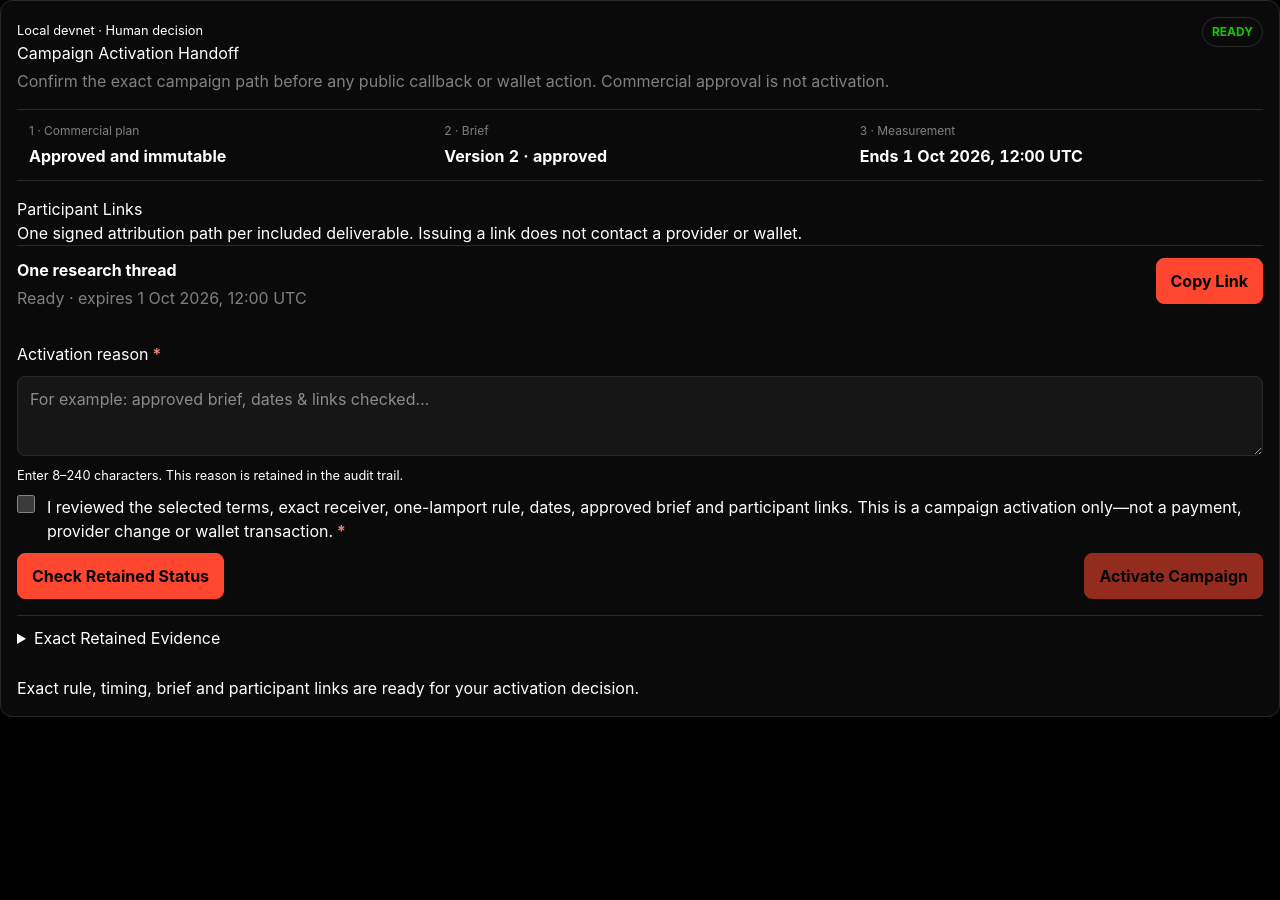
it: copies a freshly verified signed link without activating the campaign
Click the button with aria-label "Copy signed link for" at (1209, 281), box x1=1156 y1=258 x2=1263 y2=304
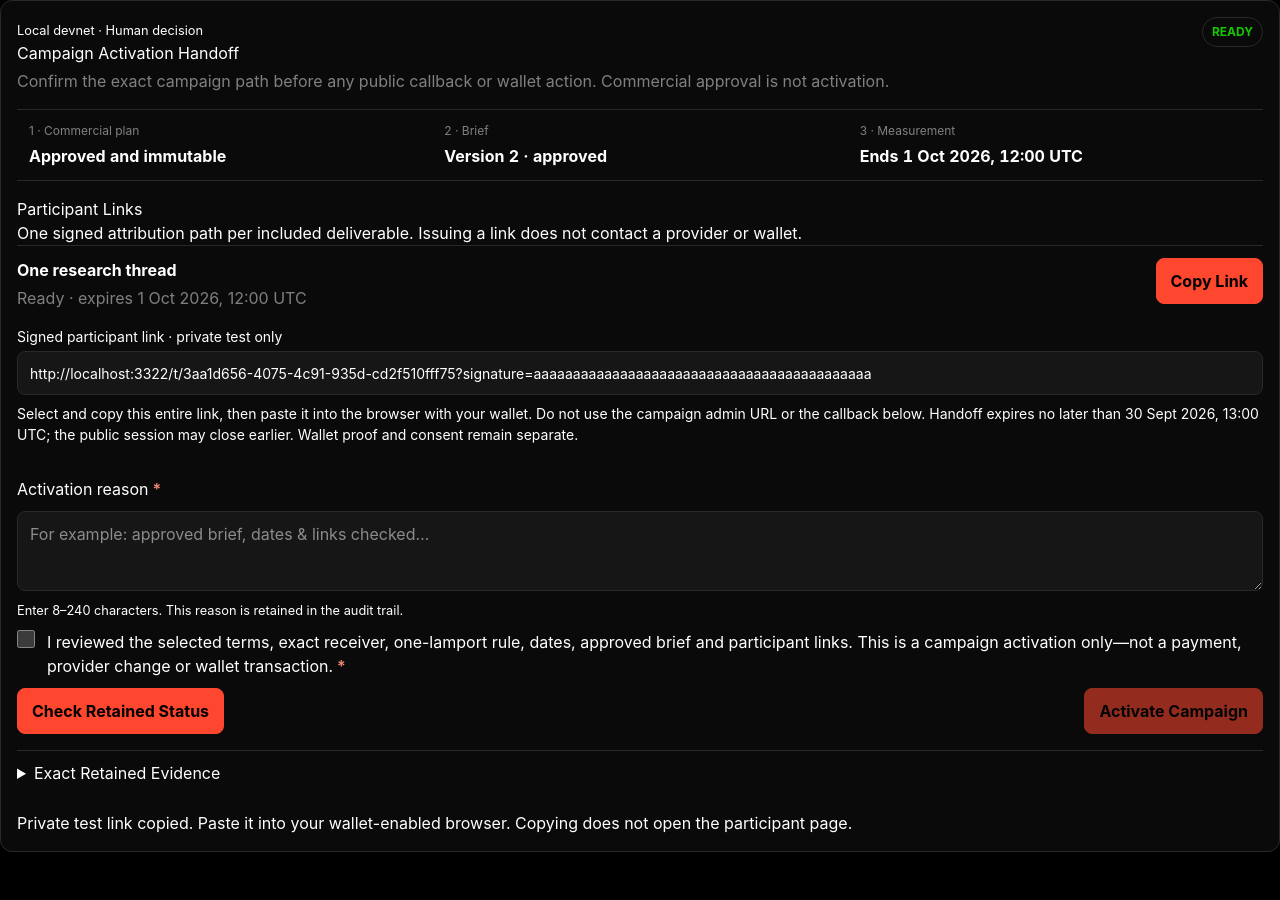
Now the text "Copying does not open the participant page" is shown, box x1=17 y1=813 x2=852 y2=833
Now the text "Handoff expires no later than" shows "30 Sept 2026, 13:00 UTC", box x1=17 y1=403 x2=1263 y2=445
